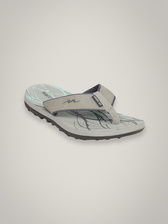shoes: (17, 69, 144, 142)
